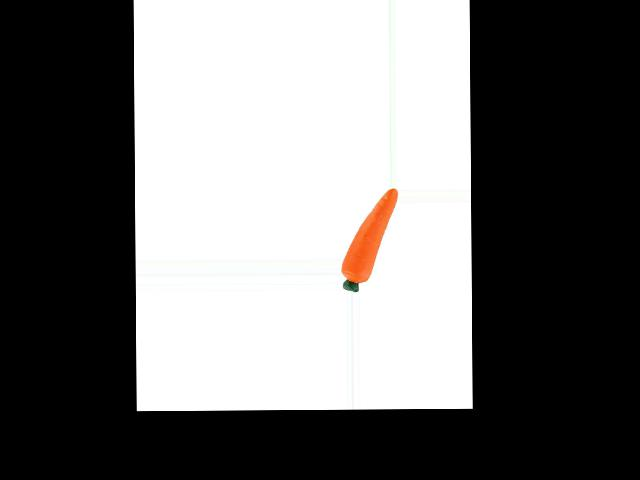carrot: (341, 188, 400, 283)
